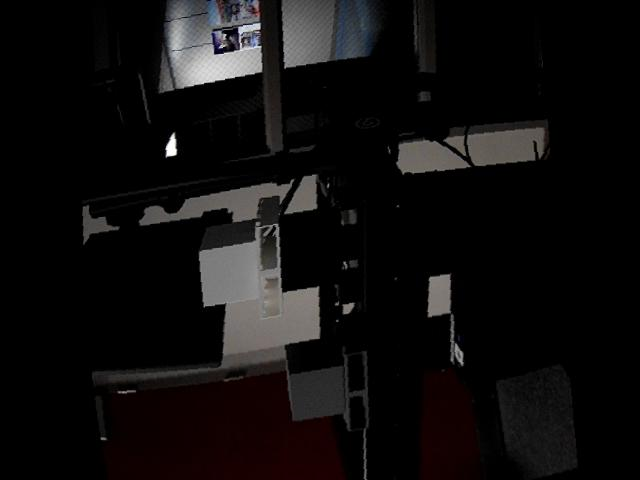black pallet: (278, 173, 368, 298)
grey pallet: (284, 313, 372, 434)
white pallet: (197, 192, 283, 319)
